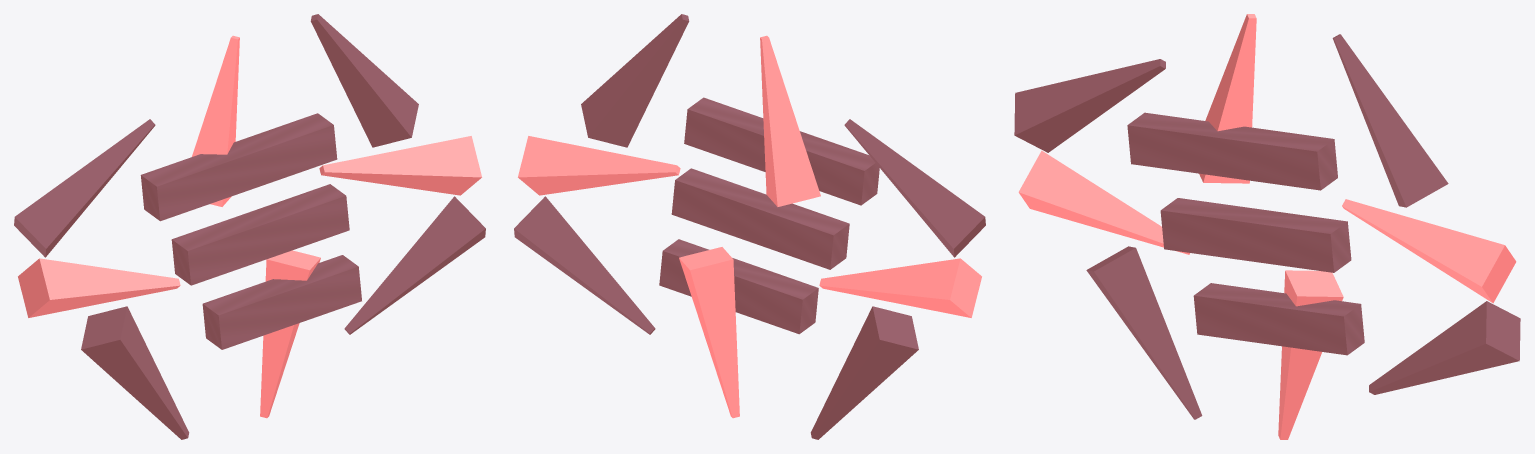
The model's file is sfx-kugugung.glb.
3 views of the same model, side by side, from view 1: azimuth 30°, elevation 25°; view 2: azimuth 150°, elevation 25°; view 3: azimuth 330°, elevation 25° (orthographic). The views are drawn at different scales.
Parts seen in each view (by area): view 1: TS_SfxStamp_kugugung; view 2: TS_SfxStamp_kugugung; view 3: TS_SfxStamp_kugugung.
Part boxes in pixels (x1=…): TS_SfxStamp_kugugung: x1=14, y1=14, x2=485, y2=439; TS_SfxStamp_kugugung: x1=514, y1=14, x2=985, y2=439; TS_SfxStamp_kugugung: x1=1014, y1=14, x2=1520, y2=439.
Size of the model in its own units: 0.3041 by 0.2424 by 0.039.
Materials: 1 (1 with a texture image).
